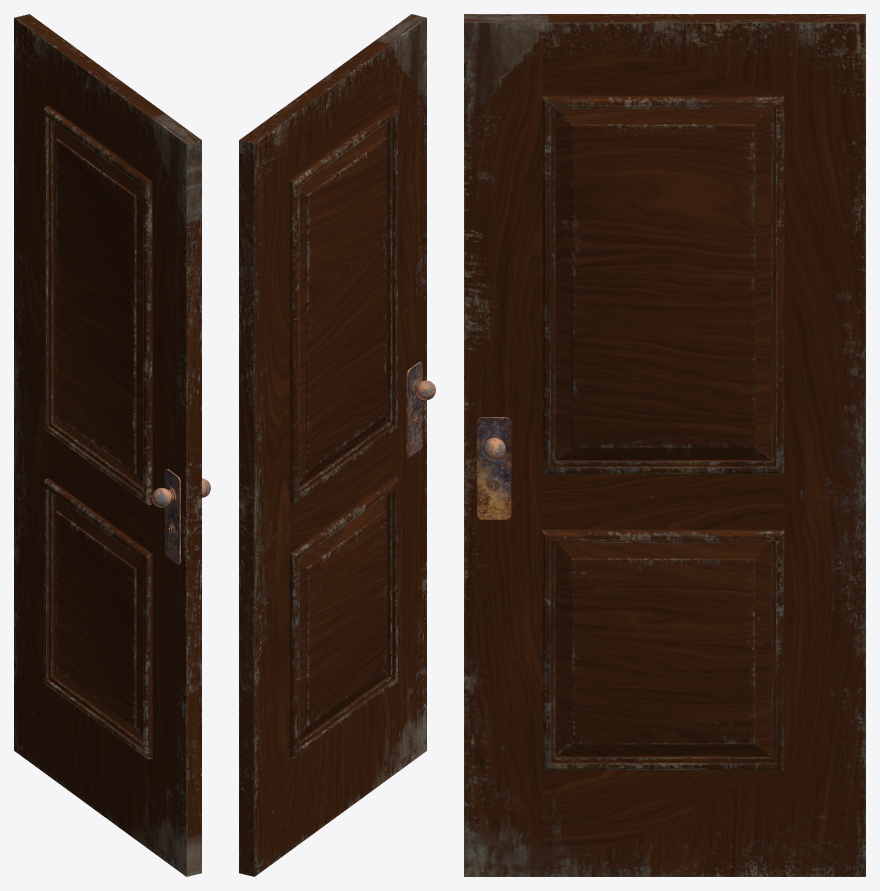
The model's file is Door_B.fbx.
The picture shows the model from 3 angles, left to right: view 1: azimuth 30°, elevation 25°; view 2: azimuth 150°, elevation 25°; view 3: azimuth 270°, elevation 25°; orthographic projection. The views are drawn at different scales.
Visible parts, largest first — view 1: Door_B; view 2: Door_B; view 3: Door_B.
Boxes of the visible parts, <box> form: Door_B: <box>14,14,210,876</box>; Door_B: <box>239,14,435,876</box>; Door_B: <box>464,14,865,876</box>.
Size of the model in its own units: 0.1894 by 1 by 2.35.
3 materials, 3 textured.
